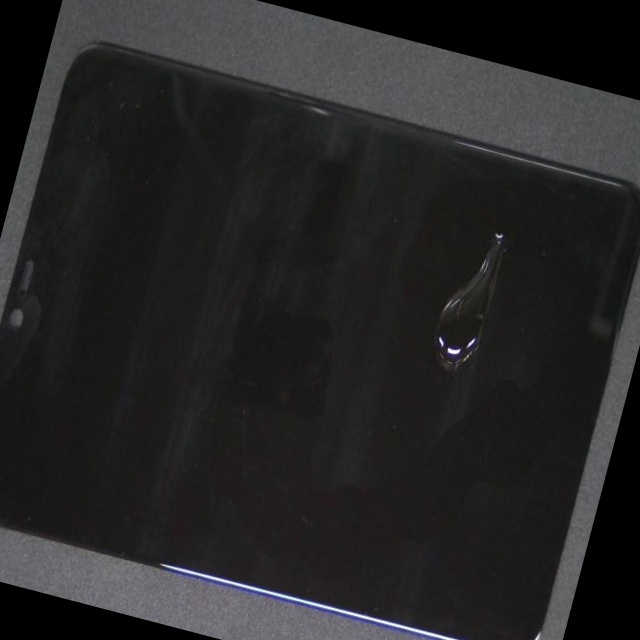oil: (254, 46, 640, 396)
